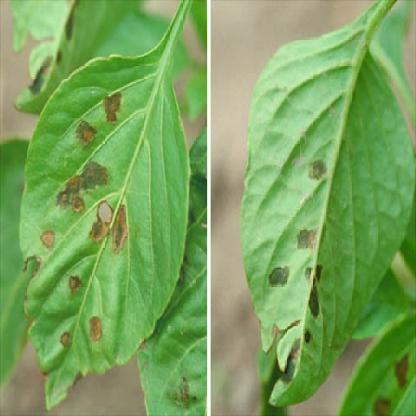bell pepper leaf spot: (15, 36, 192, 411), (238, 21, 400, 411)
